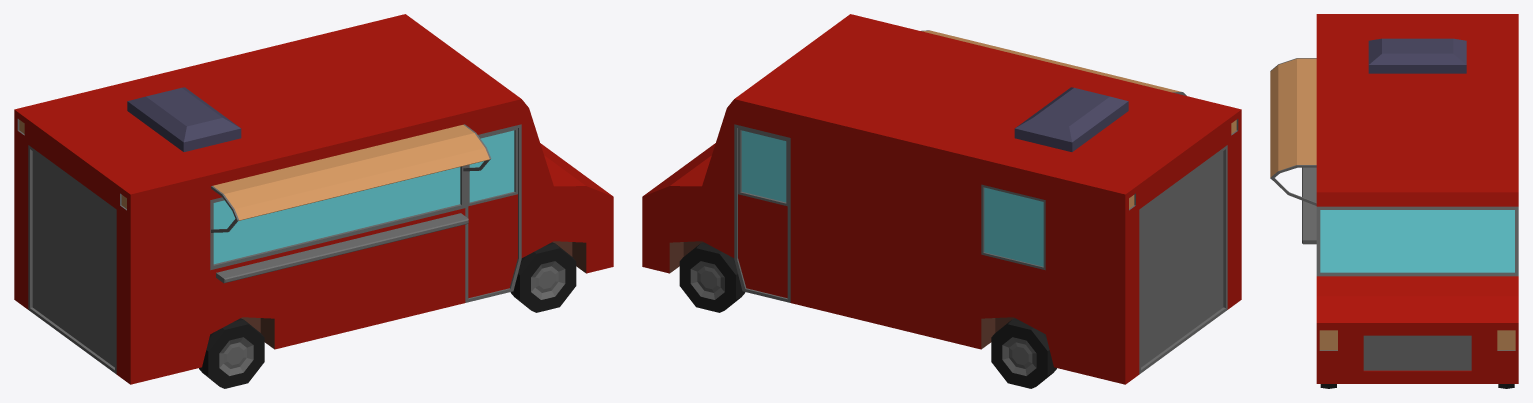
File: Puisto_JäätelöAuto.fbx
3 renders of one model, left to right at view 1: azimuth 30°, elevation 25°; view 2: azimuth 150°, elevation 25°; view 3: azimuth 270°, elevation 25°, orthographic. The views are drawn at different scales.
Visible parts, largest first — view 1: Circle; view 2: Circle; view 3: Circle.
Boxes of the visible parts, x1,y1,x2,y2 form: Circle: (14,14,613,388); Circle: (642,14,1241,388); Circle: (1270,14,1518,388).
Size of the model in its own units: 600 by 283 by 307.
